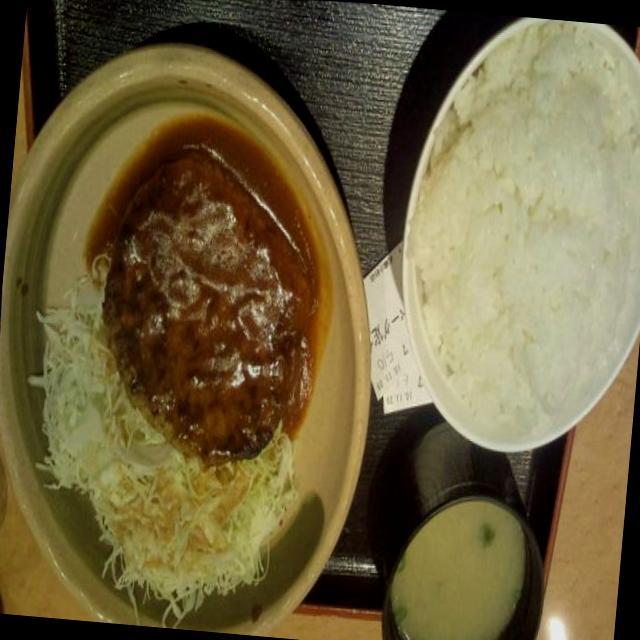Rice: (386, 9, 640, 443)
